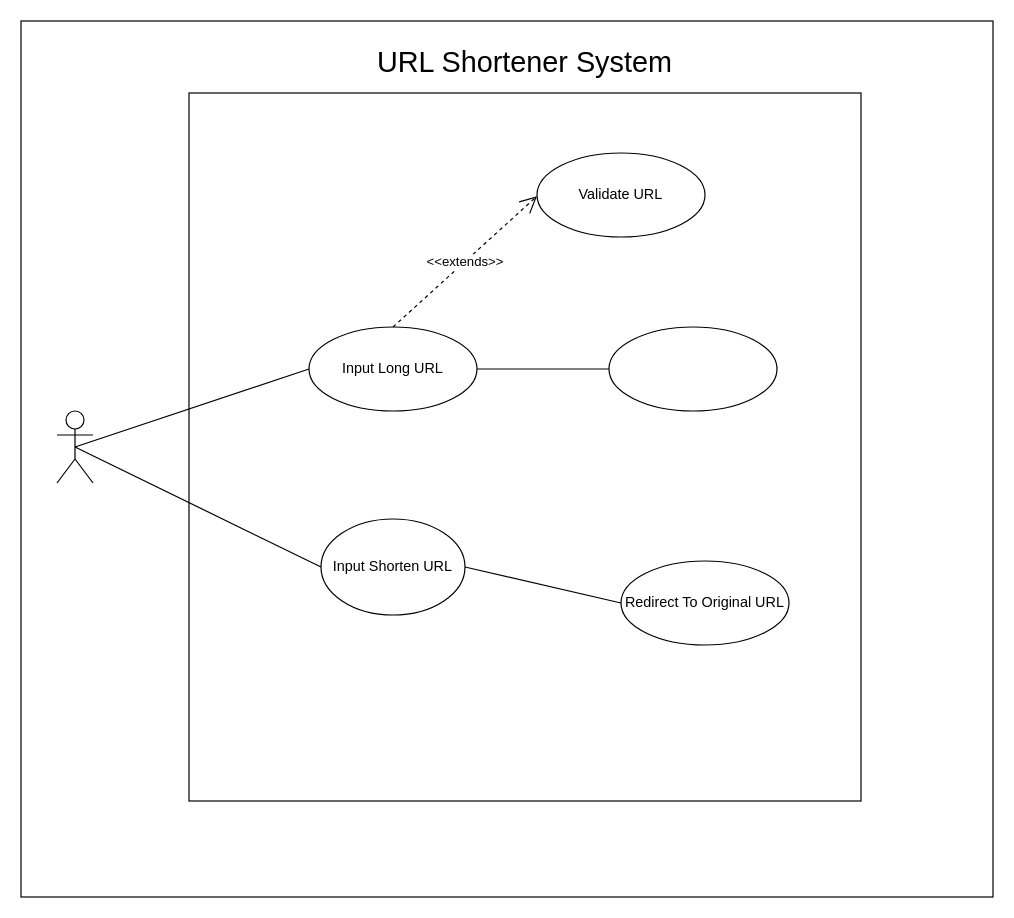
The diagram is 1014 pixels wide and 918 high, and some of its shapes have lost their labels. The centre of each missing label's shape, as x and y in pixels:
Shorten URL: the point at 692,368
User: the point at 74,446
